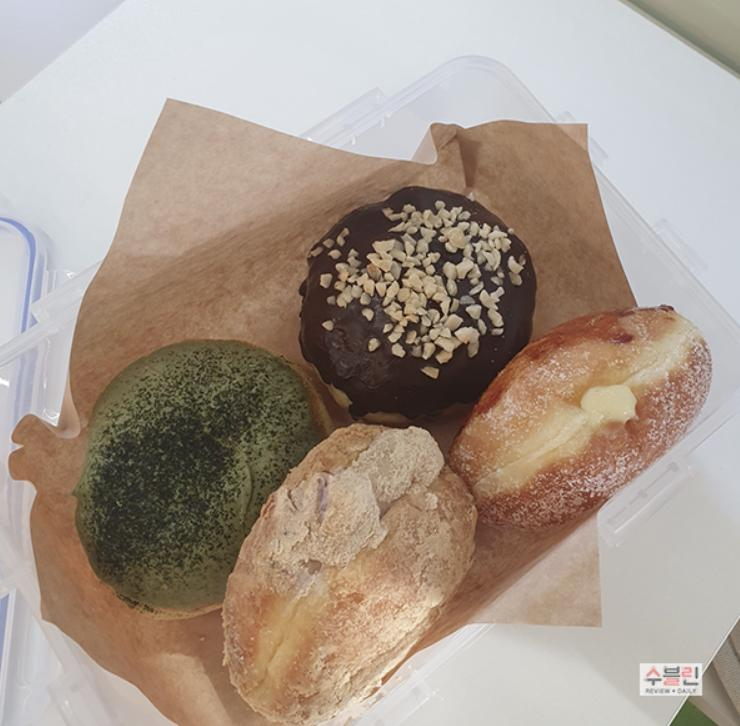Lunch Box: (0, 56, 739, 725)
